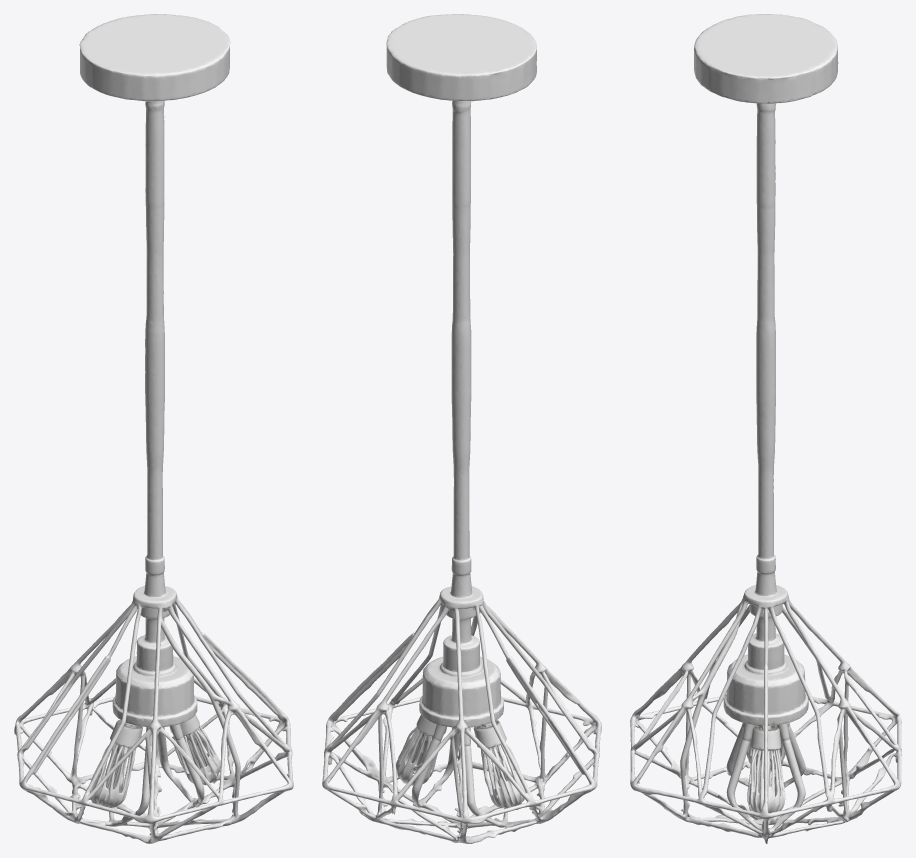
3 renders of one model, left to right at view 1: azimuth 30°, elevation 25°; view 2: azimuth 150°, elevation 25°; view 3: azimuth 270°, elevation 25°, orthographic.
Visible parts, largest first — view 1: geometry_0; view 2: geometry_0; view 3: geometry_0.
Part boxes in pixels (x1,y1,x2,y2): geometry_0: (14, 14, 293, 843); geometry_0: (322, 14, 601, 843); geometry_0: (630, 14, 901, 843).
Bounding box in the file's own units: 0.3573 × 0.9999 × 0.3154.
Materials: 1 (1 with a texture image).
